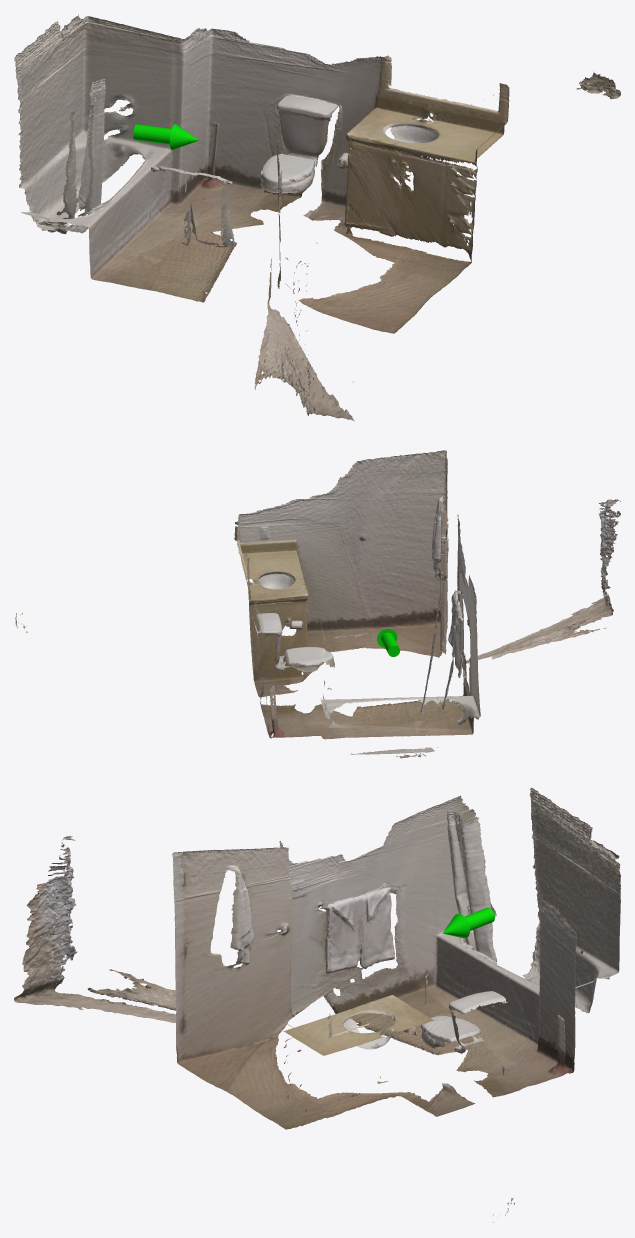
File: situation_0.glb
The picture shows the model from 3 angles, top to bottom: view 1: azimuth 30°, elevation 25°; view 2: azimuth 150°, elevation 25°; view 3: azimuth 270°, elevation 25°; orthographic projection. The views are drawn at different scales.
Parts seen in each view (by area): view 1: world; view 2: world; view 3: world.
Part boxes in pixels (bbox=[...]): world: bbox=[14, 14, 620, 421]; world: bbox=[15, 450, 620, 758]; world: bbox=[14, 788, 620, 1222].
Size of the model in its own units: 5.19 by 1.87 by 4.73.
